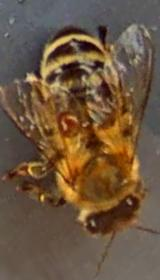varroa_mite: (50, 107, 88, 140)
